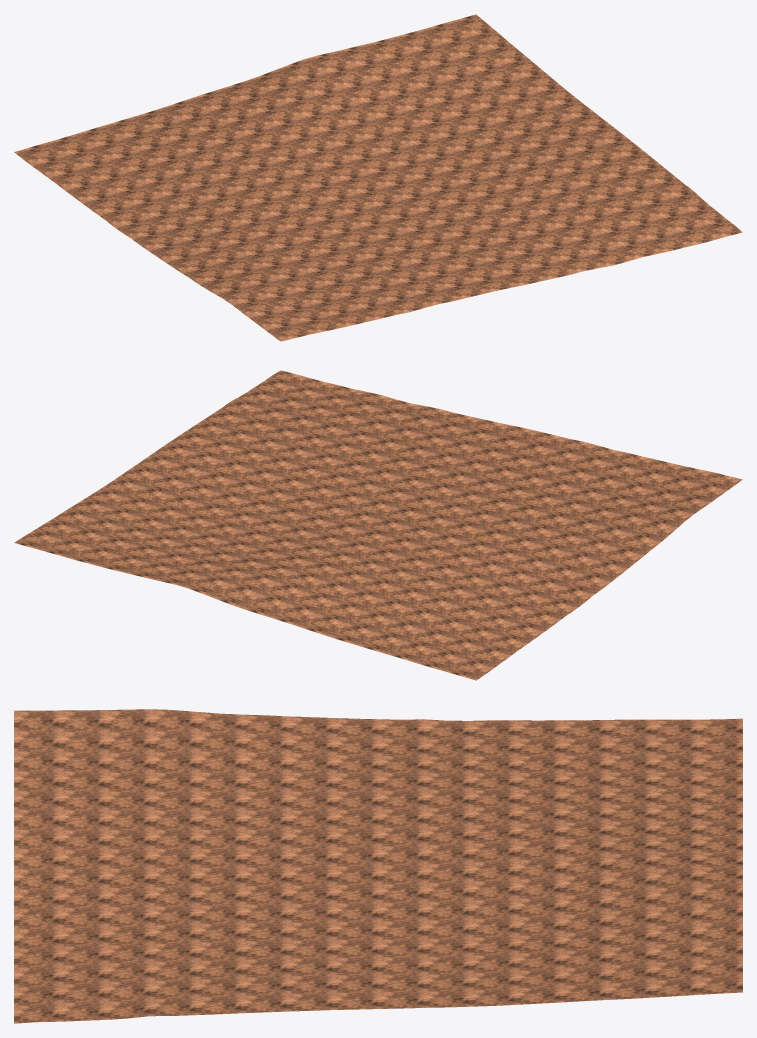
The model's file is terrain_12_22.dae.
3 views of the same model, one above another, from view 1: azimuth 30°, elevation 25°; view 2: azimuth 150°, elevation 25°; view 3: azimuth 270°, elevation 25° (orthographic). The views are drawn at different scales.
Parts seen in each view (by area): view 1: terrain_12_22-node; view 2: terrain_12_22-node; view 3: terrain_12_22-node.
Boxes of the visible parts, x1,y1,x2,y2 form: terrain_12_22-node: (14, 14, 742, 341); terrain_12_22-node: (14, 370, 742, 680); terrain_12_22-node: (14, 709, 742, 1023).
Size of the model in its own units: 128 by 128 by 7.06.
Materials: 1 (1 with a texture image).
